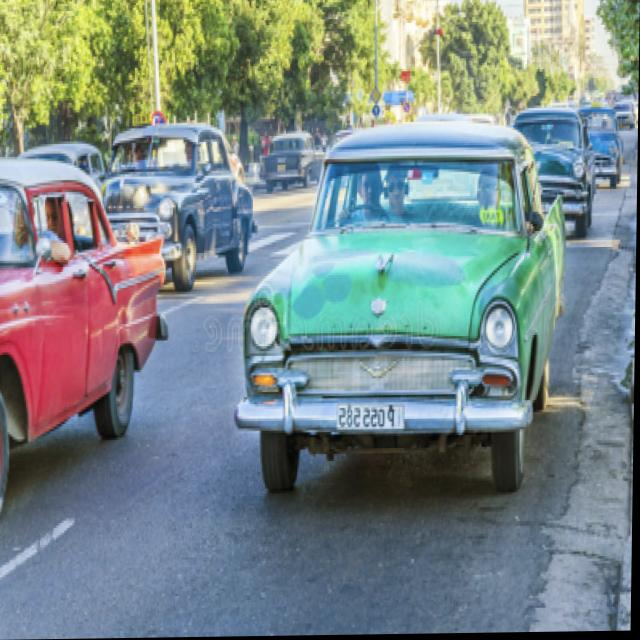licence: (336, 398, 410, 433)
